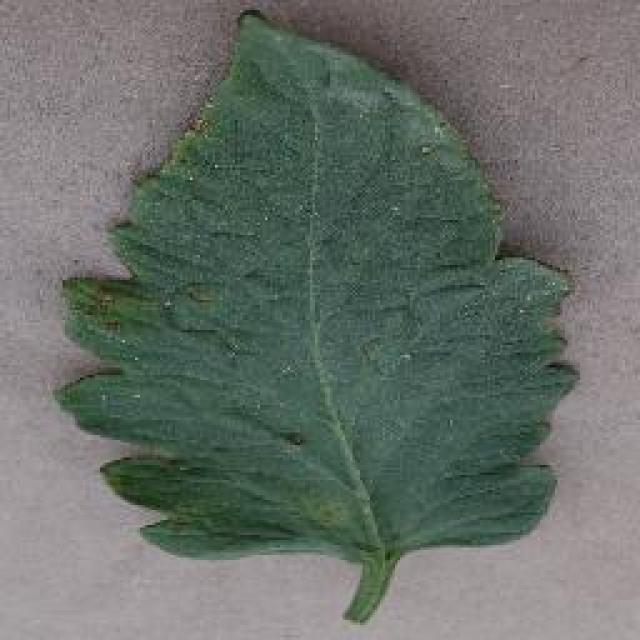Tomato___Bacterial_spot: (44, 8, 587, 623)
